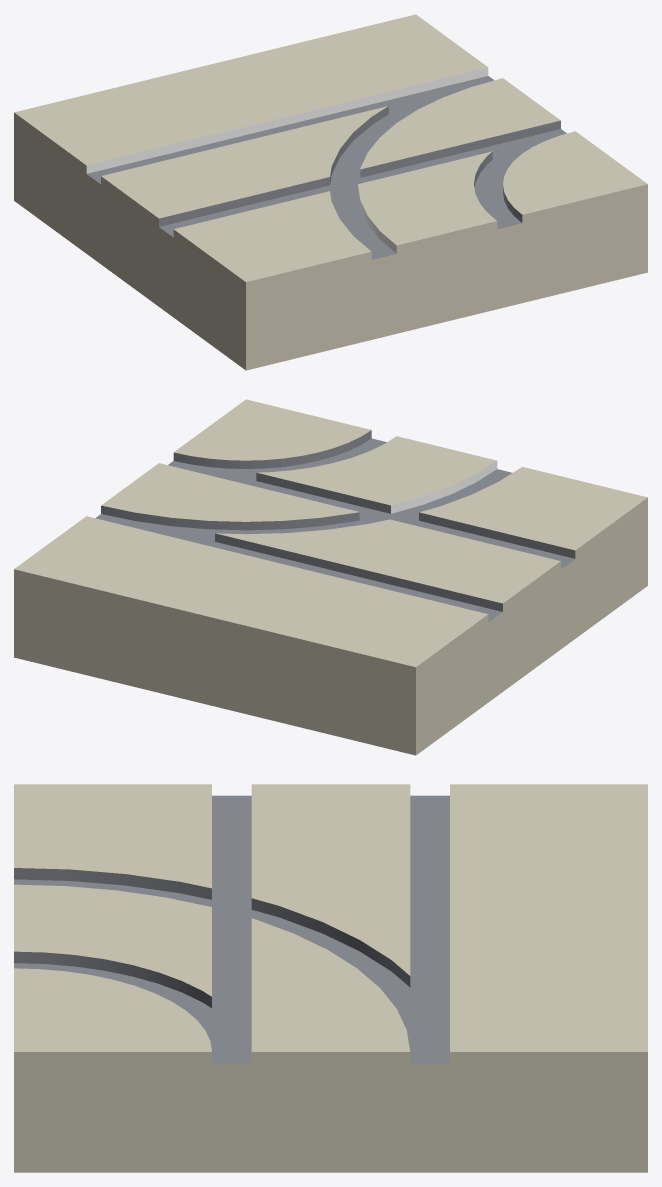
File: tile247.dae
3 renders of one model, top to bottom at view 1: azimuth 30°, elevation 25°; view 2: azimuth 150°, elevation 25°; view 3: azimuth 270°, elevation 25°, orthographic. The views are drawn at different scales.
Visible parts, largest first — view 1: tile247; view 2: tile247; view 3: tile247.
Boxes of the visible parts, x1,y1,x2,y2 form: tile247: [14, 14, 647, 370]; tile247: [14, 399, 647, 755]; tile247: [14, 784, 647, 1172].
Bounding box in the file's own units: 1 × 0.21 × 1.
